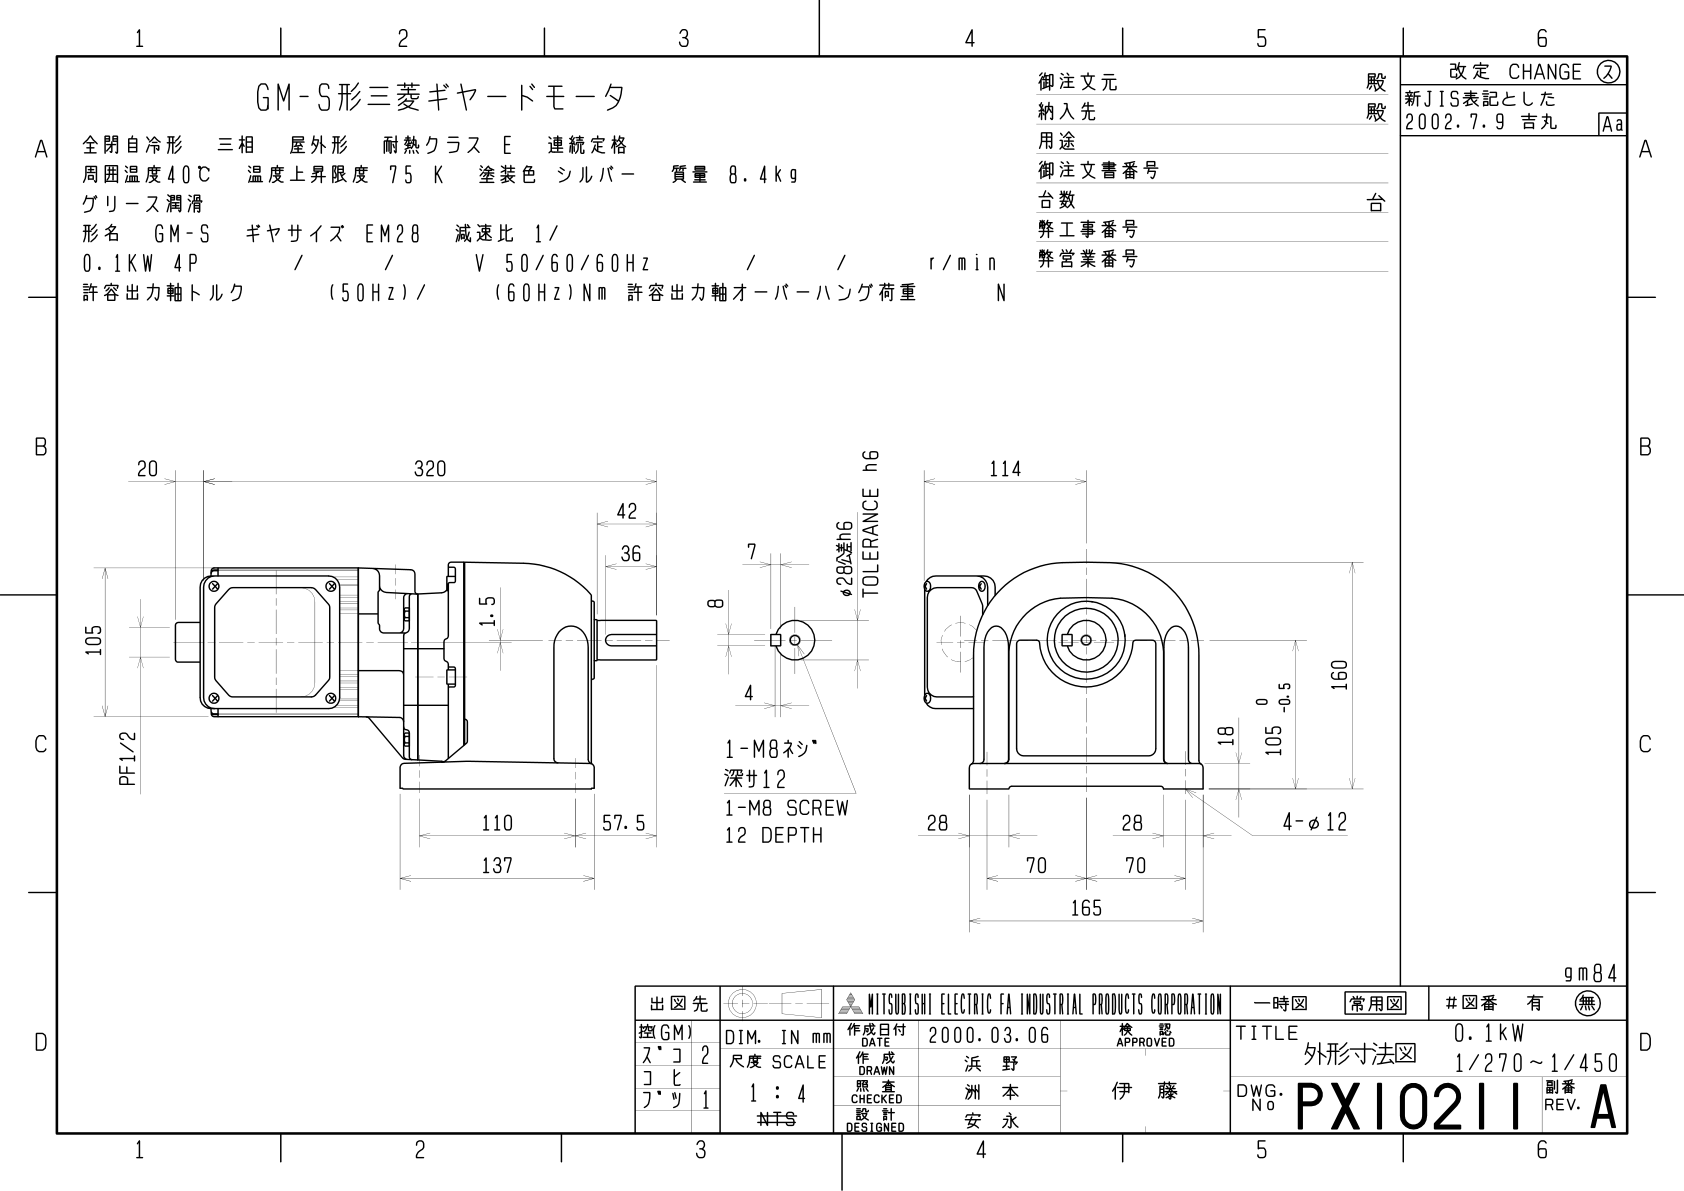GM_S_屋外＿三相_脚: (67, 409, 1383, 956)
